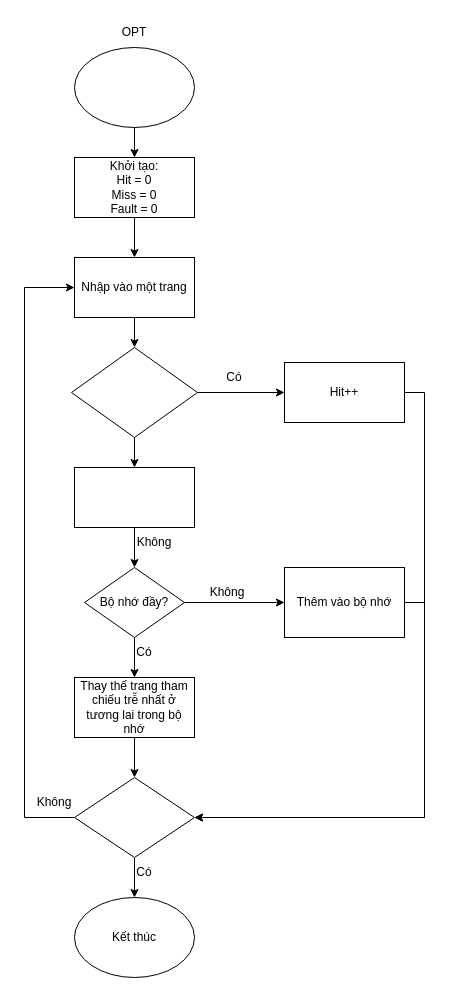
The diagram is 450 pixels wide and 995 high, and some of its shapes have lost their labels. Here are the shapes that lost their labels. From the top down, the centre of each, then its label:
the point at 134,87: Bắt đầu
the point at 134,392: Kiểm tra ở trong bộ nhớ
the point at 134,497: Miss++ Fault++
the point at 134,817: Hoàn thành
